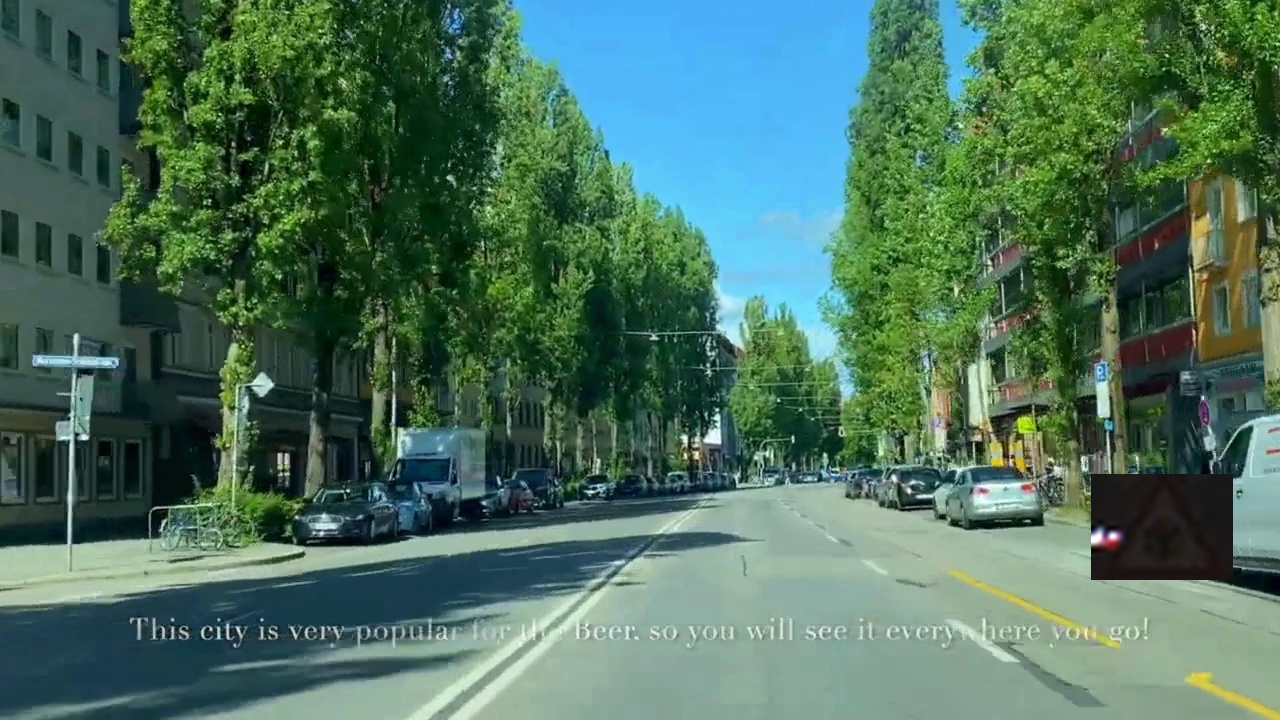Ice/snow: (1091, 474, 1233, 580)
